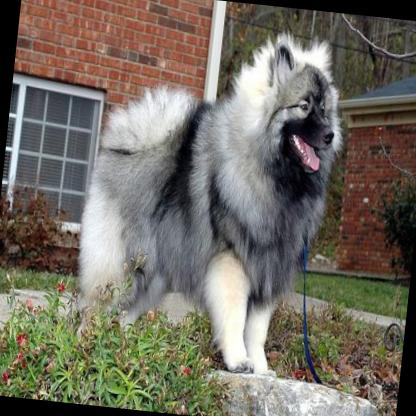keeshond: (65, 8, 352, 378)
